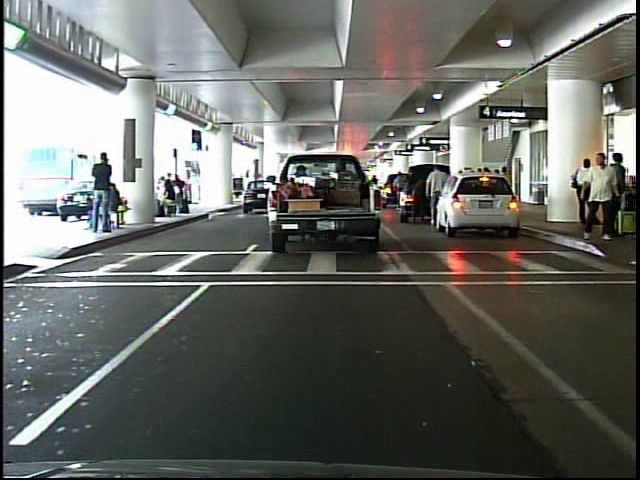person: (576, 144, 618, 246), (92, 146, 119, 234), (591, 152, 616, 241), (422, 161, 452, 232), (189, 166, 203, 209)
